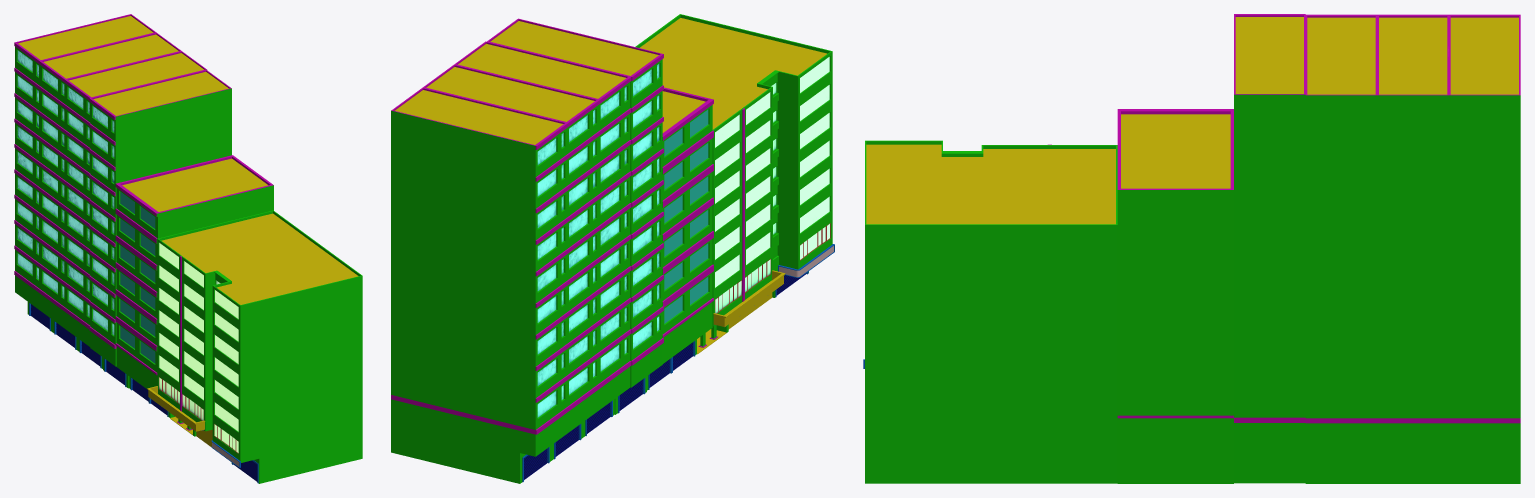
File: Buildings2.fbx
3 renders of one model, left to right at view 1: azimuth 30°, elevation 25°; view 2: azimuth 150°, elevation 25°; view 3: azimuth 270°, elevation 25°, orthographic. The views are drawn at different scales.
Visible parts, largest first — view 1: B5.001; view 2: B5.001; view 3: B5.001.
Part boxes in pixels (left/top/right/bottom): B5.001: left=14, top=14, right=362, bottom=483; B5.001: left=391, top=14, right=834, bottom=483; B5.001: left=863, top=14, right=1520, bottom=483.
Size of the model in its own units: 1305 by 2703 by 4144.
